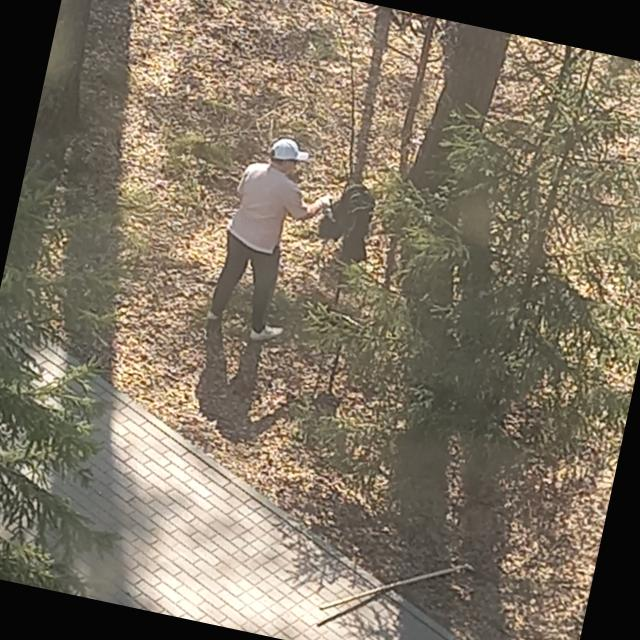person: (203, 129, 339, 348)
